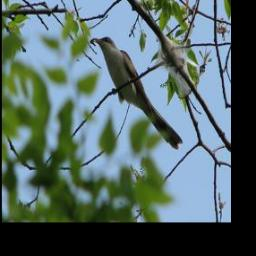Cuckoo: (92, 34, 183, 146)
